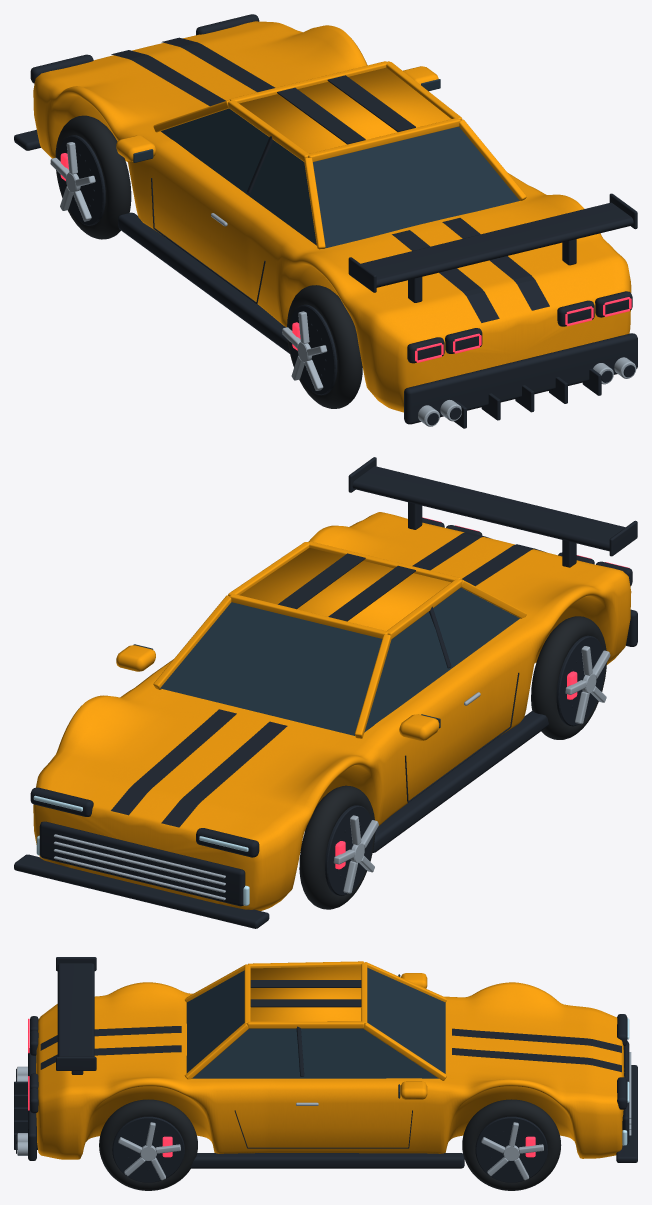
Rendered from VelaCoupe.fbx.
3 renders of one model, top to bottom at view 1: azimuth 30°, elevation 25°; view 2: azimuth 150°, elevation 25°; view 3: azimuth 270°, elevation 25°, orthographic. The views are drawn at different scales.
Visible parts, largest first — view 1: Sculpted body and open wheel arches, Rear glass, Left side window, Rear diffuser, Low coupe roof, Rear wing, Side sill, Performance tyre.002, Performance tyre, Rim barrel.002, Rim barrel, Trunk racing stripe.001 (+18 smaller); view 2: Sculpted body and open wheel arches, Windshield, Left side window, Rear wing, Low coupe roof, Front grille surround, Side sill, Front splitter, Performance tyre, Performance tyre.002, Hood racing stripe.001, Hood racing stripe (+16 smaller); view 3: Sculpted body and open wheel arches, Right side window, Windshield, Low coupe roof, Side sill.001, Rear glass, Rear wing, Performance tyre.001, Performance tyre.003, Rim barrel.003, Rim barrel.001, Hood racing stripe.001 (+18 smaller).
Boxes of the visible parts, x1,y1,x2,y2 form: Sculpted body and open wheel arches: (33,21,631,412); Rear glass: (313,126,519,248); Left side window: (161,108,316,245); Rear diffuser: (404,333,637,424); Low coupe roof: (239,67,451,153); Rear wing: (361,202,633,287); Side sill: (118,212,289,353); Performance tyre.002: (287,285,362,408); Performance tyre: (55,115,131,239); Rim barrel.002: (289,304,337,395); Rim barrel: (57,135,105,225); Trunk racing stripe.001: (442,218,549,310); Sculpted body and open wheel arches: (33,512,631,910); Windshield: (160,602,382,735); Left side window: (364,587,519,732); Rear wing: (352,466,625,551); Low coupe roof: (239,547,450,630); Front grille surround: (39,821,245,906); Side sill: (372,711,548,852); Front splitter: (14,854,269,928); Performance tyre: (299,785,375,909); Performance tyre.002: (531,616,606,739); Hood racing stripe.001: (111,709,236,815); Hood racing stripe: (161,721,287,827); Sculpted body and open wheel arches: (36,982,624,1159); Right side window: (192,1028,438,1078); Windshield: (367,967,445,1073); Low coupe roof: (250,966,361,1021); Side sill.001: (190,1153,464,1168); Rear glass: (186,970,244,1072); Rear wing: (57,963,94,1056); Performance tyre.001: (462,1099,561,1190); Performance tyre.003: (99,1099,197,1190); Rim barrel.003: (112,1116,184,1182); Rim barrel.001: (475,1116,547,1182); Hood racing stripe.001: (452,1048,621,1072).
Size of the model in its own units: 2.22 by 1.31 by 4.92.
